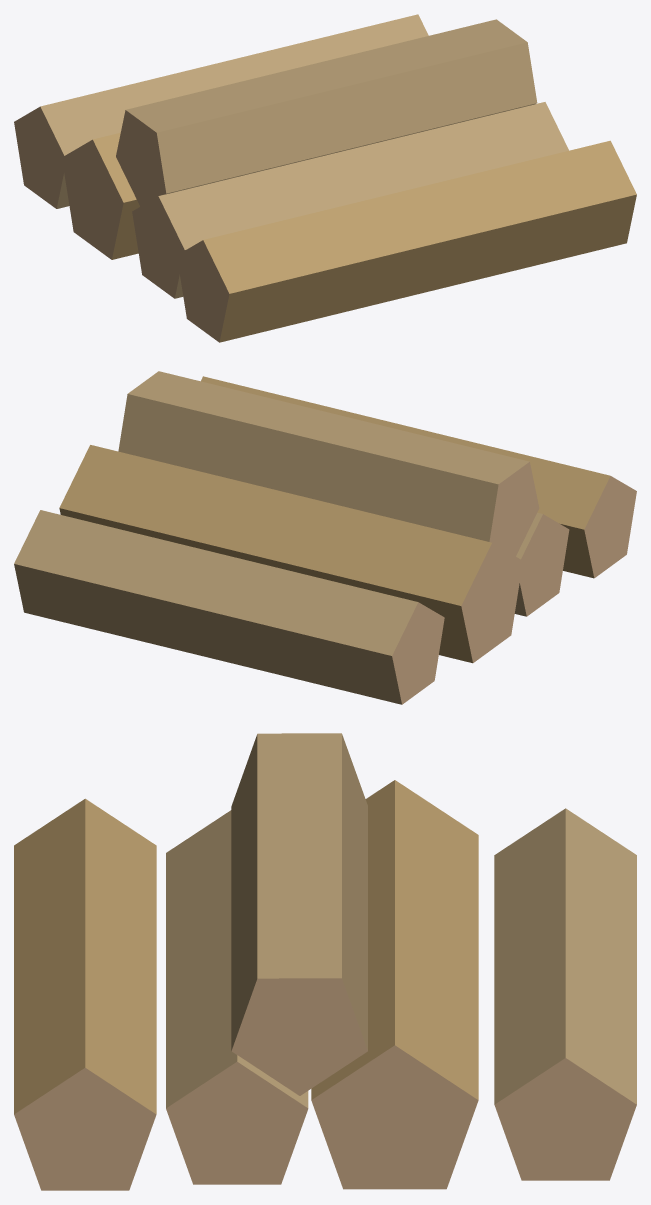
Rendered from Acacia_Firewood_Pile_01.fbx.
The picture shows the model from 3 angles, top to bottom: view 1: azimuth 30°, elevation 25°; view 2: azimuth 150°, elevation 25°; view 3: azimuth 270°, elevation 25°; orthographic projection. The views are drawn at different scales.
Parts seen in each view (by area): view 1: Acacia_Firewood_Pile_01; view 2: Acacia_Firewood_Pile_01; view 3: Acacia_Firewood_Pile_01.
Part boxes in pixels (left/top/right/bottom): Acacia_Firewood_Pile_01: left=14, top=14, right=636, bottom=342; Acacia_Firewood_Pile_01: left=14, top=371, right=636, bottom=704; Acacia_Firewood_Pile_01: left=14, top=733, right=636, bottom=1190.
Size of the model in its own units: 58.97 by 20.37 by 57.7.
